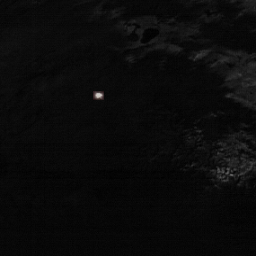Target: (92, 91, 104, 100)
